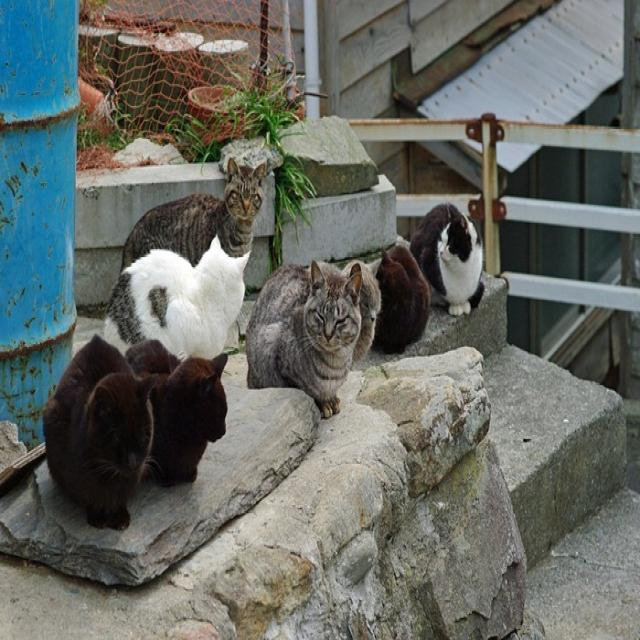cat: (44, 335, 155, 528), (246, 262, 362, 418), (104, 237, 249, 359), (121, 158, 266, 268), (126, 341, 228, 485), (410, 203, 484, 315), (375, 245, 430, 353), (343, 262, 381, 361)
